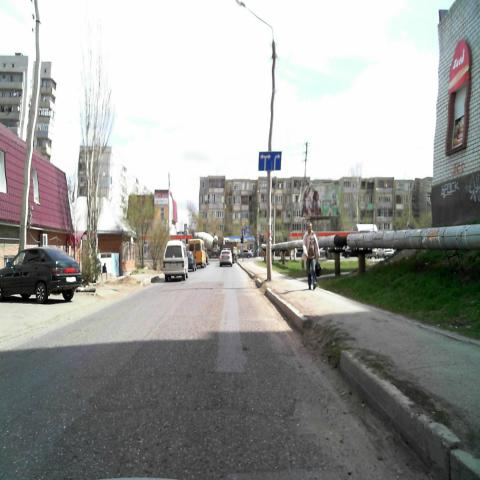5_15_2_2: (258, 151, 282, 171)
